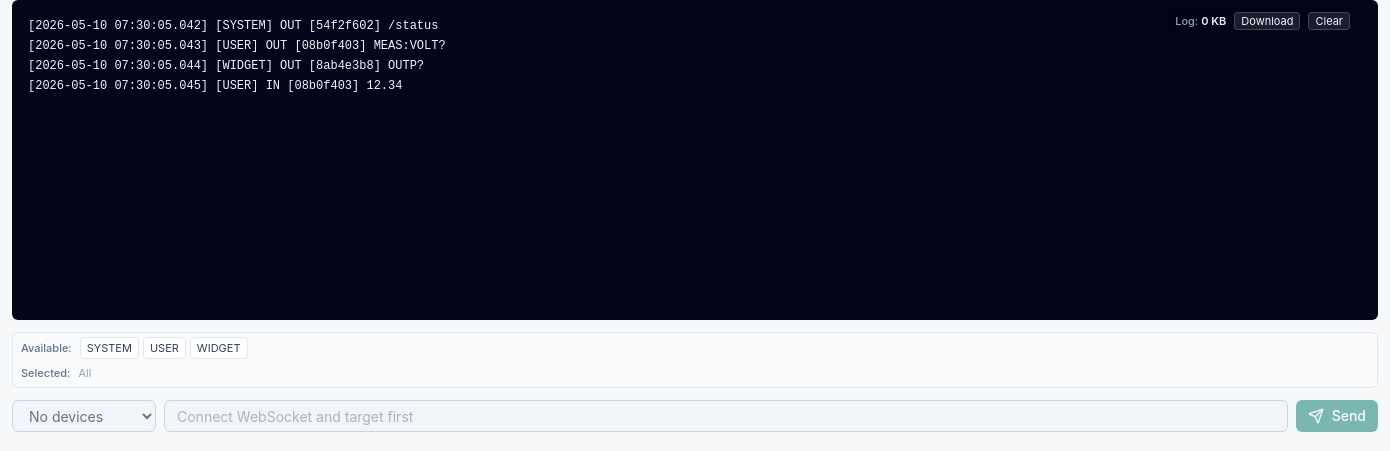
Test: WebSocketMonitor › removes one selected tag with its chip x button
Click the button "USER" at (164, 348), box top-left (143, 337), bottom-right (186, 359)
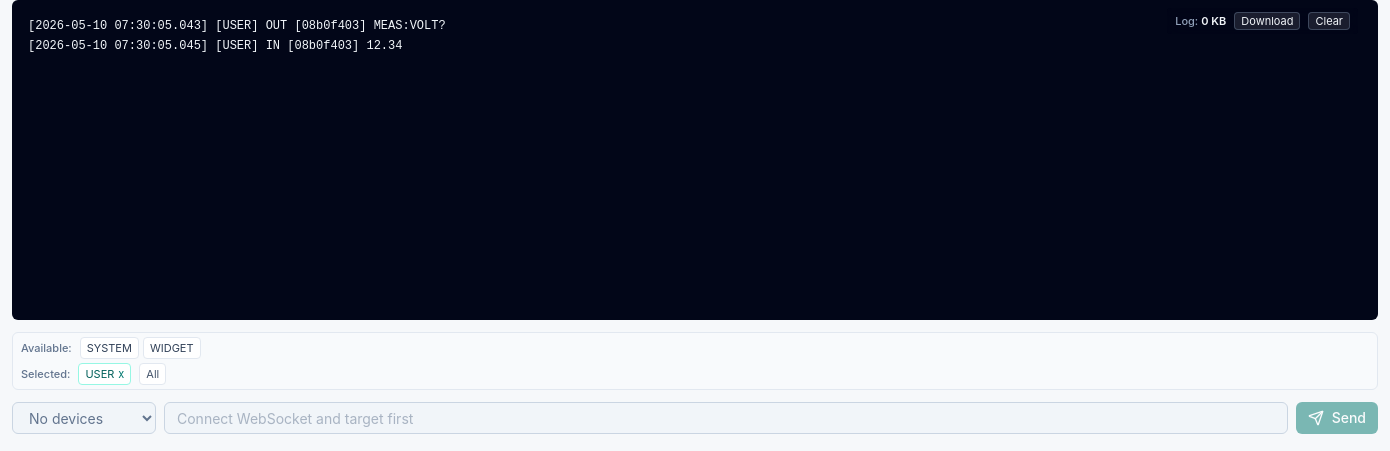
Click the button "WIDGET" at (172, 348), box top-left (143, 337), bottom-right (201, 359)
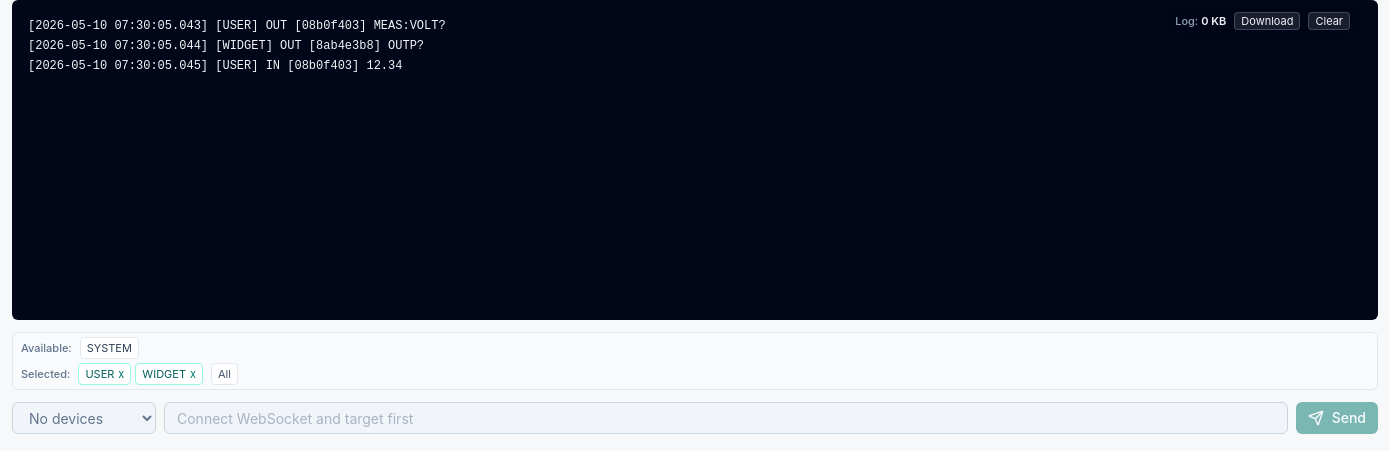
Click the button named "Remove USER filter" at (121, 374), box top-left (118, 364), bottom-right (124, 384)
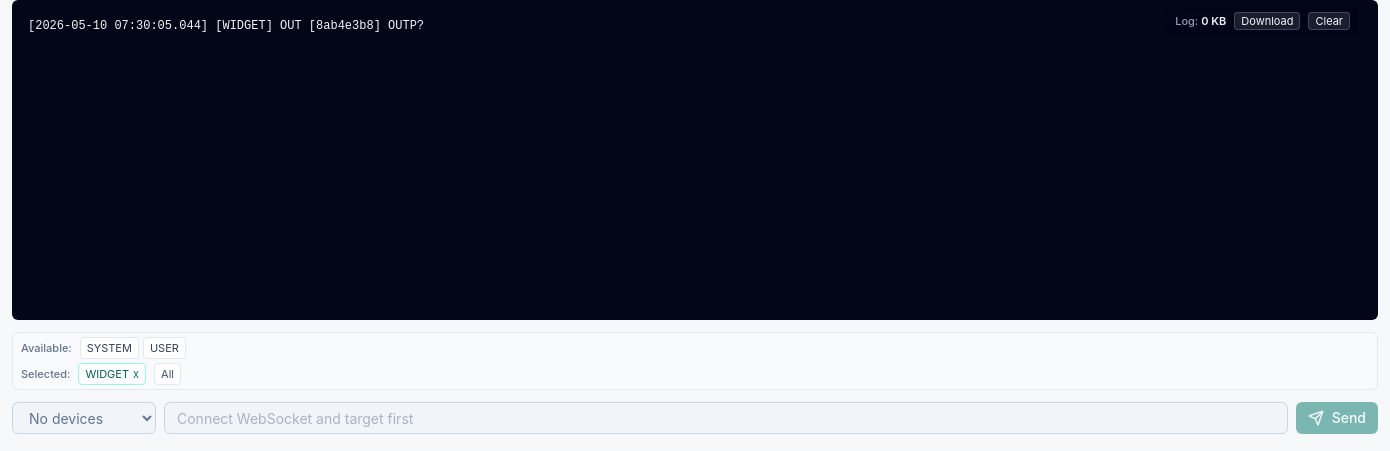
expect the text "[2026-05-10 07:30:05.044] [WIDGET] OUT [8ab4e3b8] OUTP?" is shown: met
expect the text "MEAS:VOLT?" is gone: met
expect the text "12.34" is gone: met
